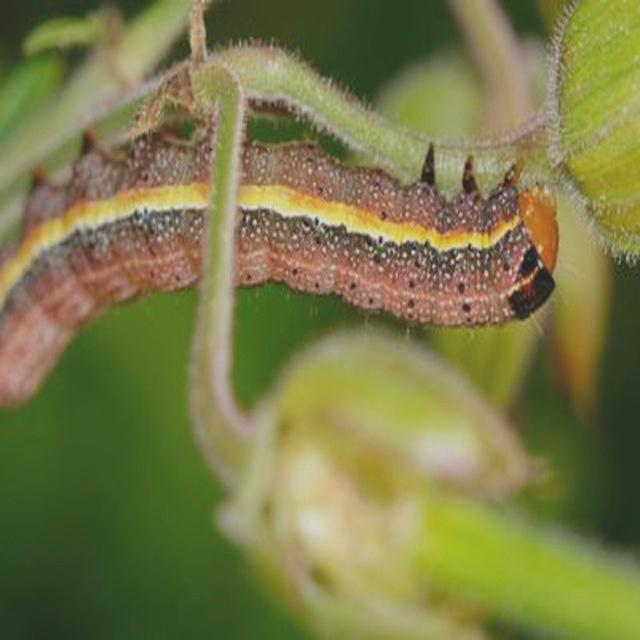gusano_cogollero: (0, 126, 563, 415)
